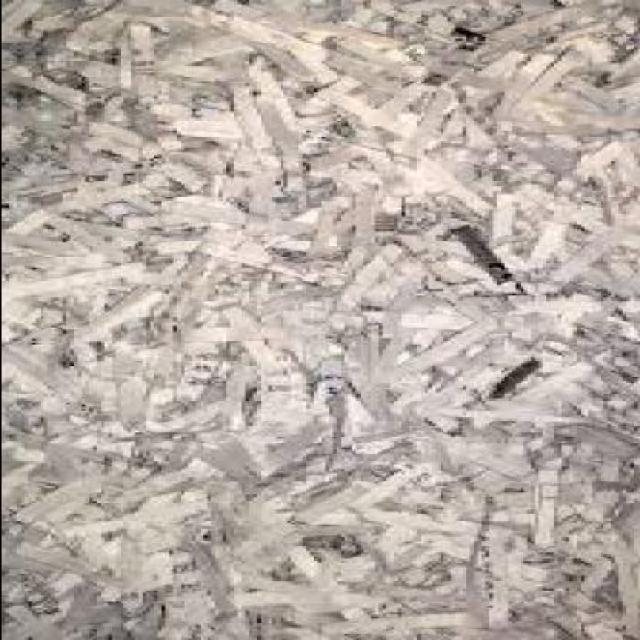PAPER: (3, 1, 639, 638)
